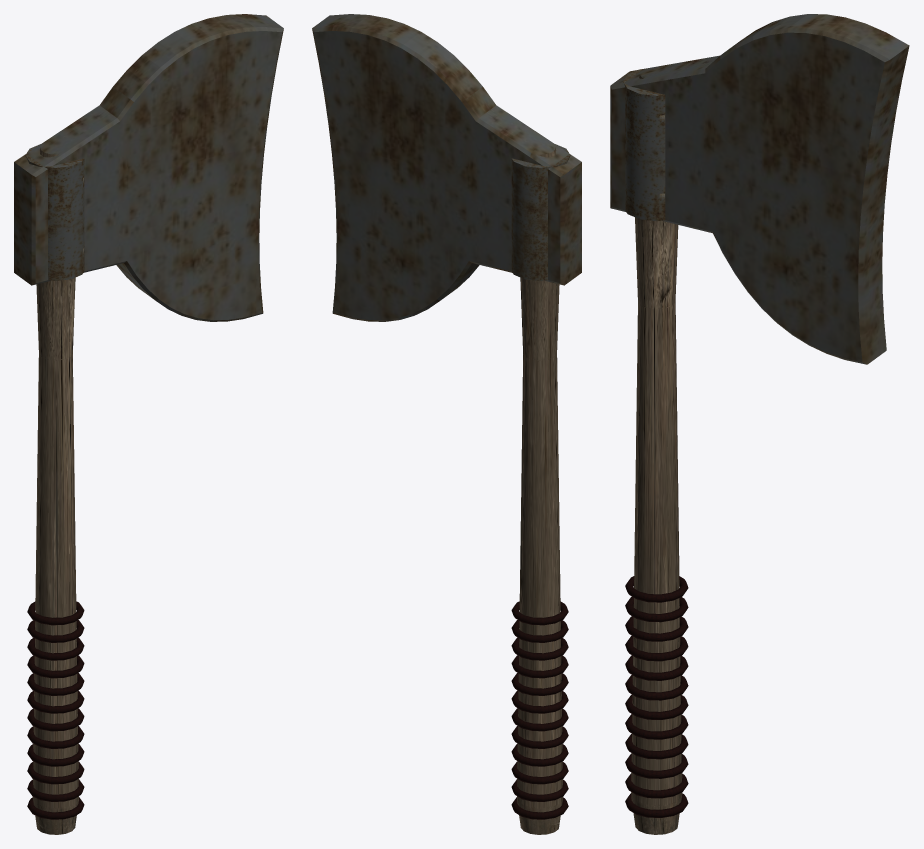
The model's file is weapon-axe.glb.
3 renders of one model, left to right at view 1: azimuth 30°, elevation 25°; view 2: azimuth 150°, elevation 25°; view 3: azimuth 330°, elevation 25°, orthographic. The views are drawn at different scales.
Visible parts, largest first — view 1: WeaponMesh; view 2: WeaponMesh; view 3: WeaponMesh.
Boxes of the visible parts, x1=… form: WeaponMesh: x1=14, y1=14, x2=283, y2=834; WeaponMesh: x1=312, y1=14, x2=581, y2=834; WeaponMesh: x1=610, y1=14, x2=909, y2=834.
Bounding box in the file's own units: 0.3737 × 1.08 × 0.078.
4 materials, 4 textured.
